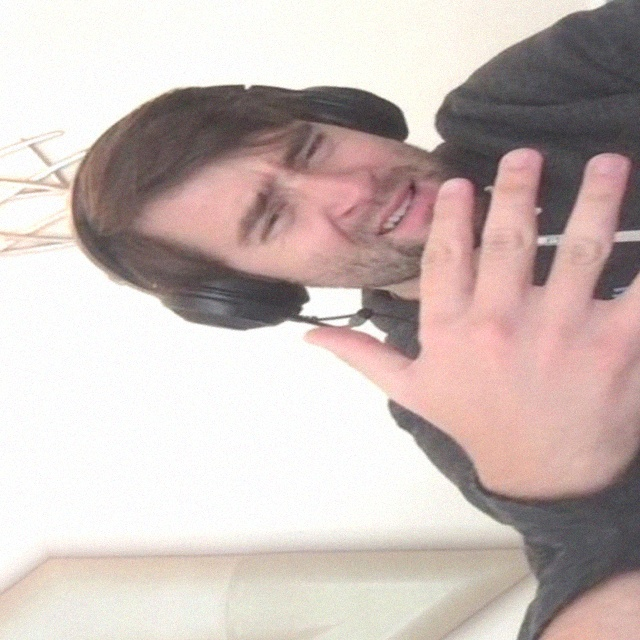Paper: (182, 16, 640, 593)
